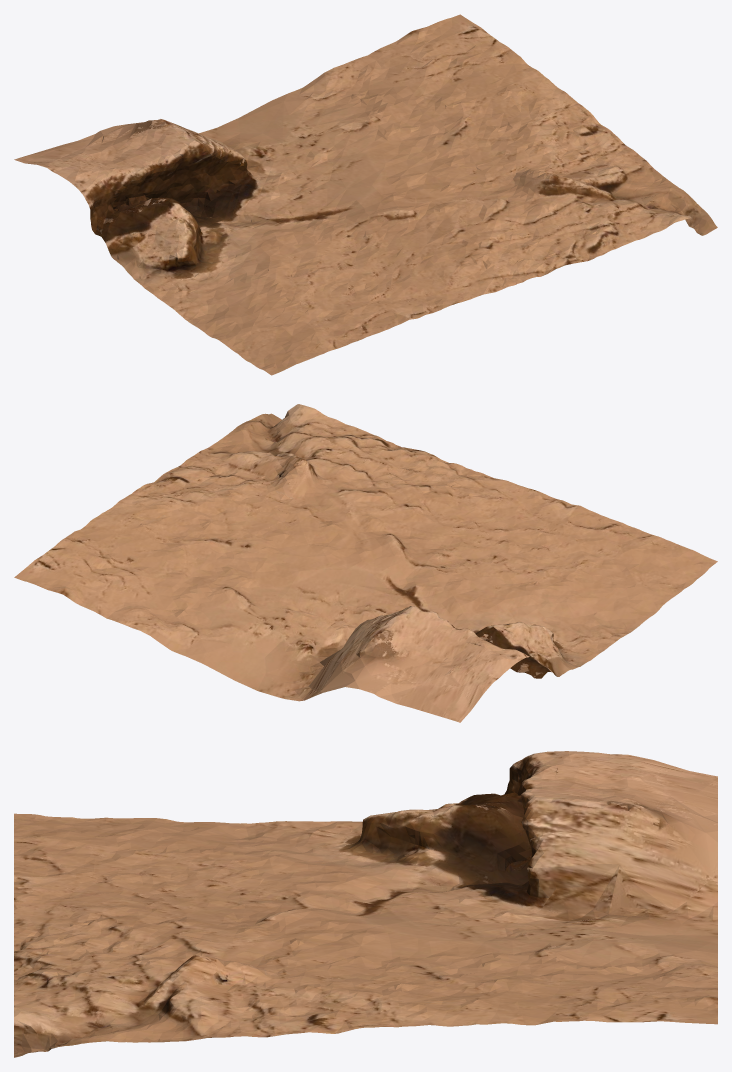
3 views of the same model, one above another, from view 1: azimuth 30°, elevation 25°; view 2: azimuth 150°, elevation 25°; view 3: azimuth 270°, elevation 25° (orthographic). The views are drawn at different scales.
Bounding box in the file's own units: 1.04 × 0.1663 × 1.04.
2 materials, 2 textured.
